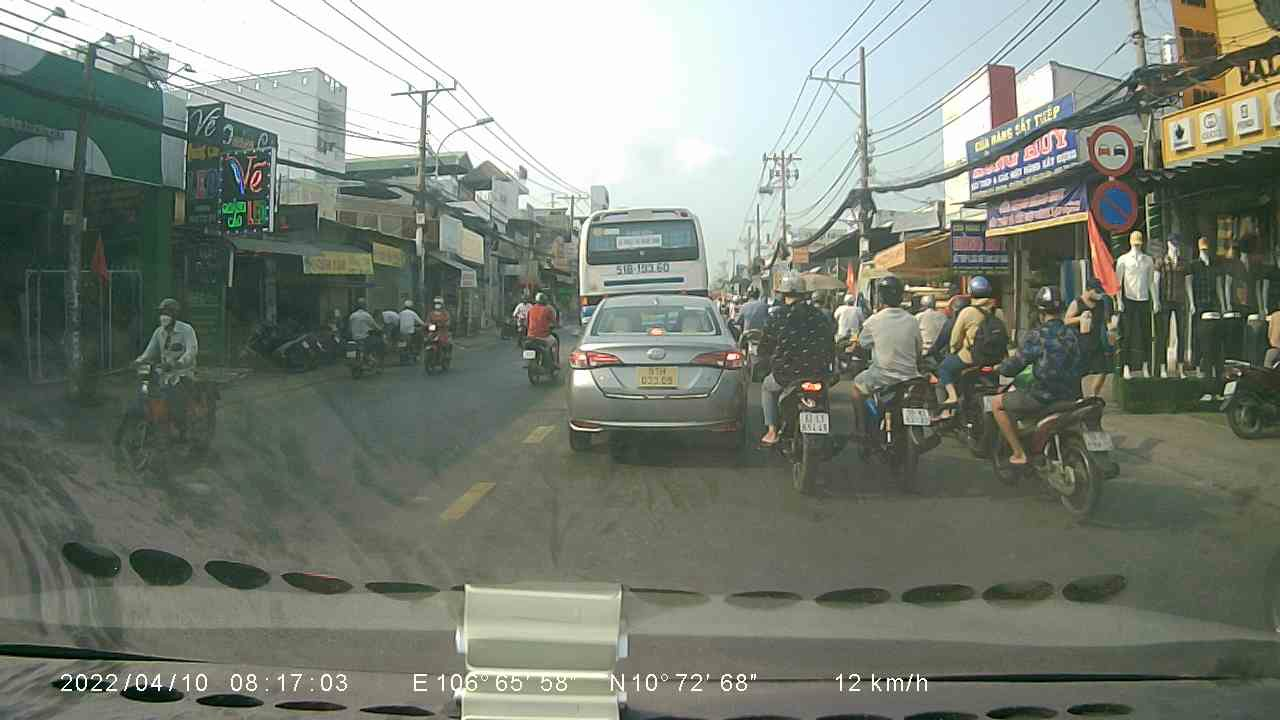Bien khac: (1086, 120, 1139, 178)
Cam do xe: (1087, 178, 1144, 232)
